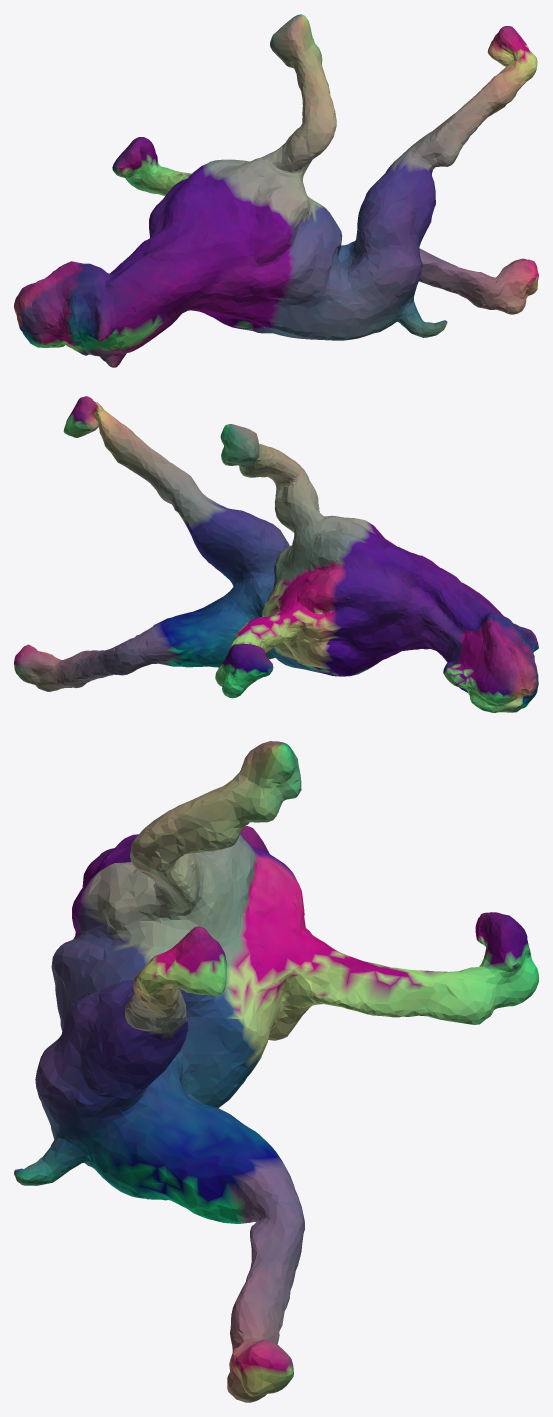
File: dog1-9.off.obj
3 renders of one model, top to bottom at view 1: azimuth 30°, elevation 25°; view 2: azimuth 150°, elevation 25°; view 3: azimuth 270°, elevation 25°, orthographic. The views are drawn at different scales.
Bounding box in the file's own units: 1.59 × 0.973 × 0.9106.
